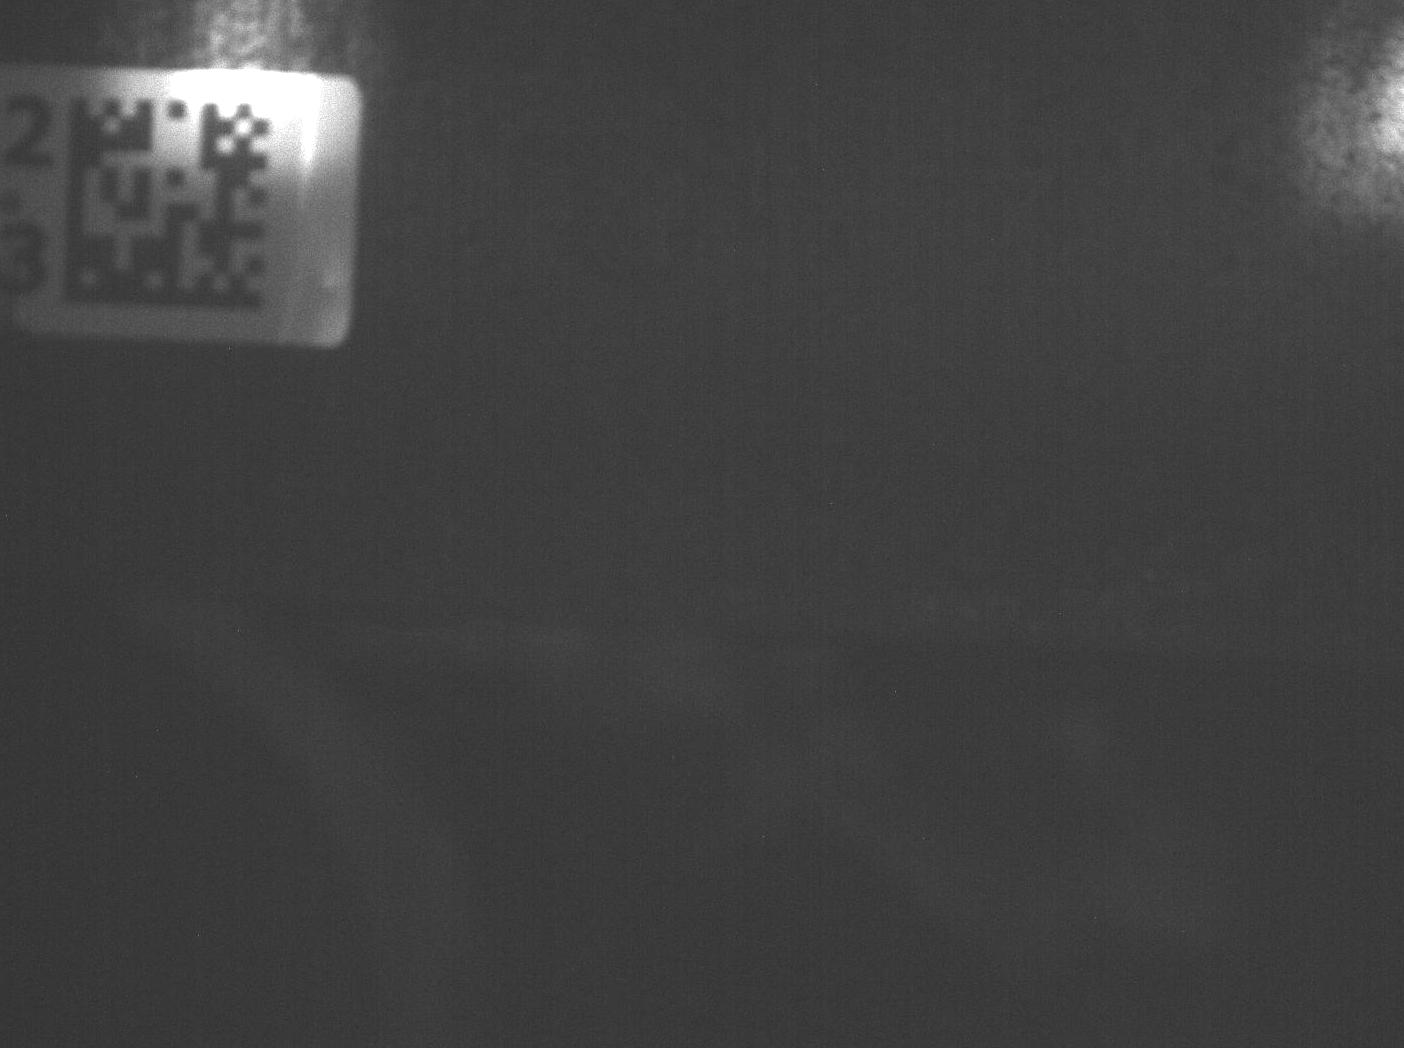data matrix: (54, 78, 283, 331)
